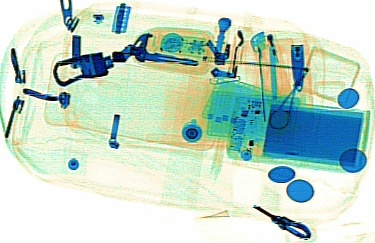lighter: (249, 30, 293, 100)
